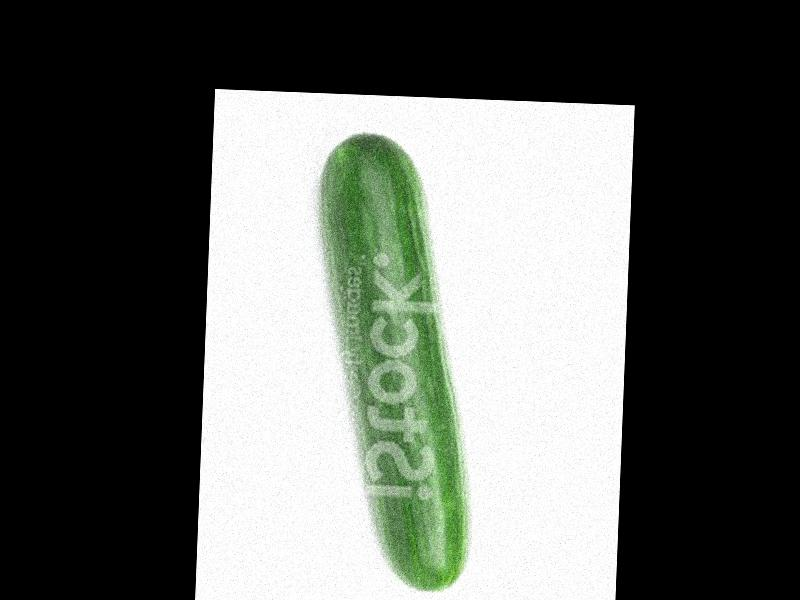Cucumber: (306, 129, 485, 594)
